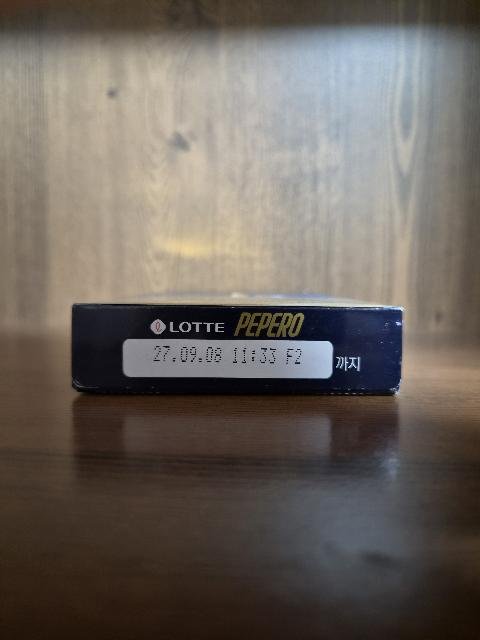pepero: (71, 294, 403, 396)
